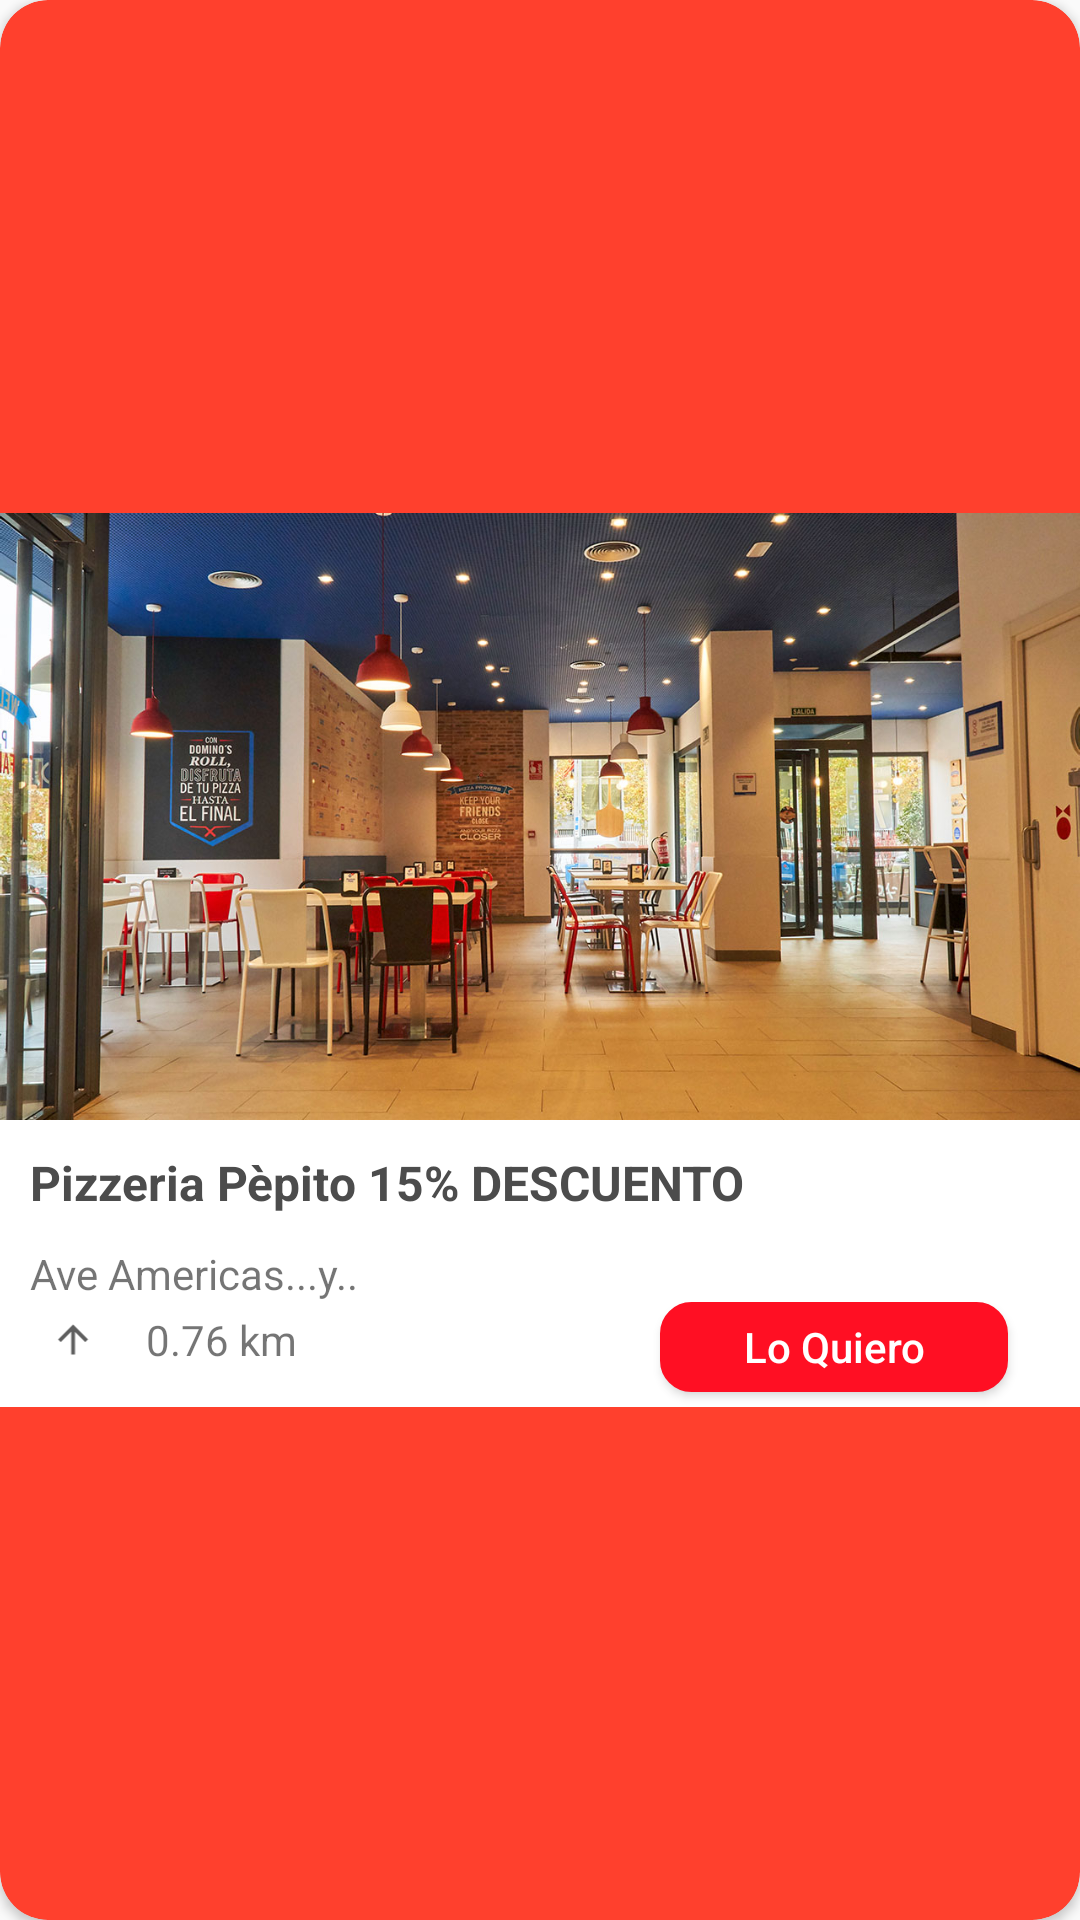

Screen size 1080px×1920px. Icon name, then its center in pixels as [x,y]:
arrow upward: [73,1340]
